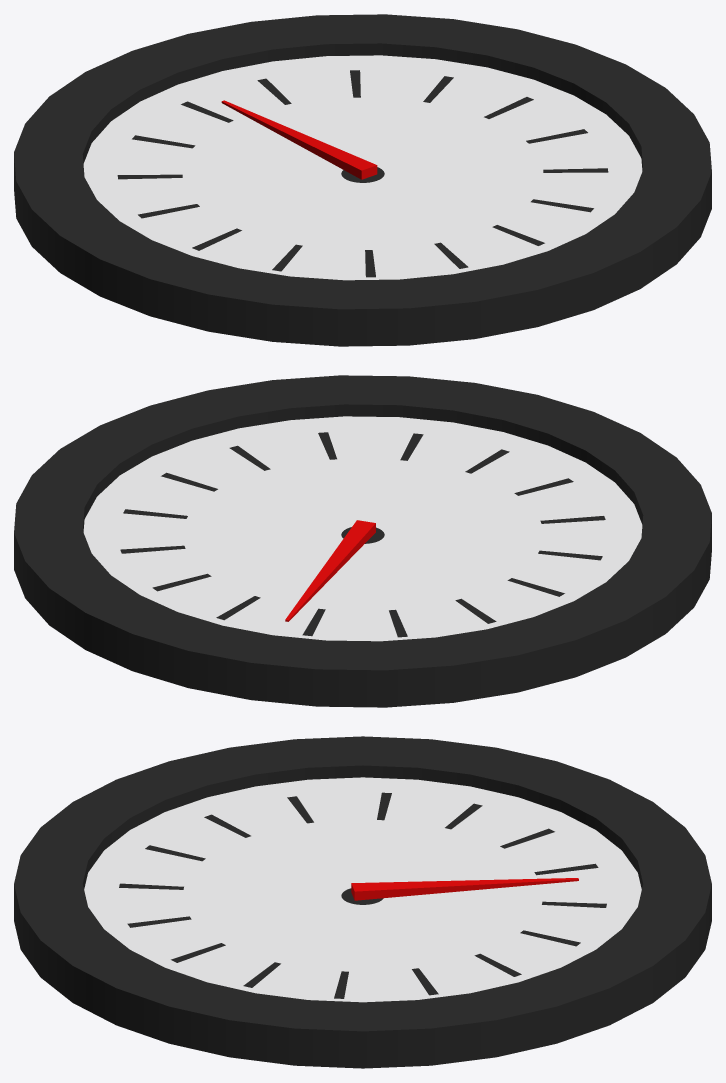
File: clock.fbx
3 views of the same model, one above another, from view 1: azimuth 30°, elevation 25°; view 2: azimuth 150°, elevation 25°; view 3: azimuth 270°, elevation 25° (orthographic).
Parts seen in each view (by area): view 1: clock, clock.001; view 2: clock, clock.001; view 3: clock, clock.001.
Part boxes in pixels (x1,y1,x2,y2): clock: [14, 14, 711, 346]; clock.001: [221, 100, 377, 179]; clock: [14, 375, 711, 707]; clock.001: [285, 520, 375, 621]; clock: [14, 736, 711, 1068]; clock.001: [351, 878, 578, 900].
Size of the model in its own units: 200 by 11.75 by 200.
Materials: 1 (1 with a texture image).
